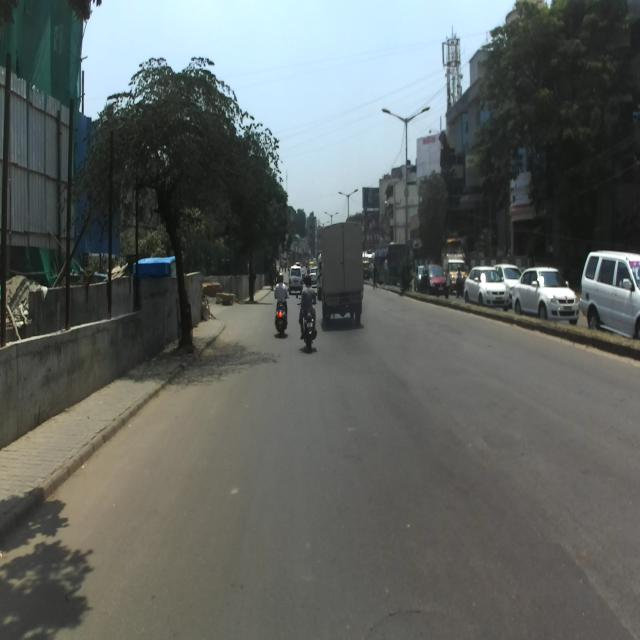tree ahead at: (97, 86, 222, 357)
truck ahead at: (319, 218, 367, 329)
